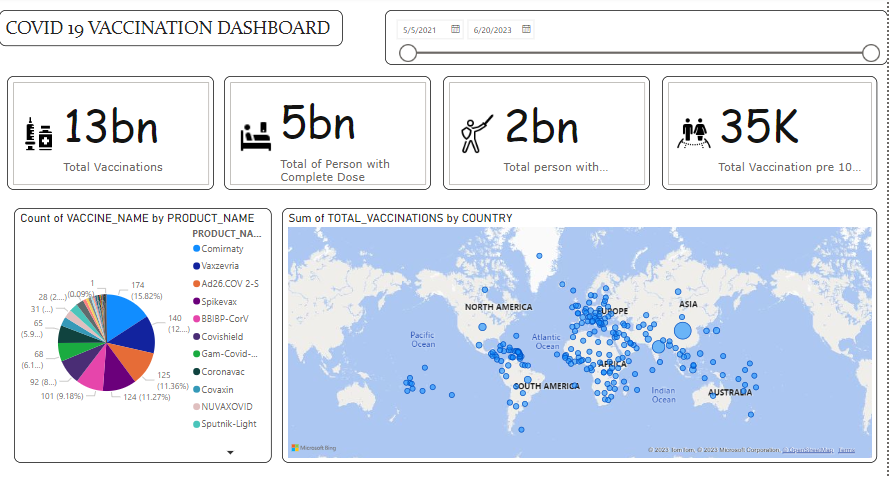

The dashboard page shown, as its layout file describes it:
{"tool":"powerbi","page":{"name":"vaccination","canvas":[1280,720],"ordinal":0},"visuals":[{"type":"textbox","box":[0,18.5,494.9,52],"z":0},{"type":"slicer","fields":{"Values":["vaccination-data.DATE_UPDATED"]},"box":[555.8,18.7,724.3,79.2],"z":1000},{"type":"cardVisual","fields":{"Data":["Sum(vaccination-data.TOTAL_VACCINATIONS)"]},"box":[11.5,113.8,298.1,164.2],"z":2000},{"type":"pieChart","fields":{"Category":["vaccination-metadata.PRODUCT_NAME"],"Y":["CountNonNull(vaccination-metadata.VACCINE_NAME)"]},"box":[21.8,303.6,370.7,367.4],"z":3000},{"type":"cardVisual","fields":{"Data":["Sum(vaccination-data.PERSONS_LAST_DOSE)"]},"box":[324,113.8,298.1,164.2],"z":4000},{"type":"cardVisual","fields":{"Data":["Sum(vaccination-data.PERSONS_BOOSTER_ADD_DOSE)"]},"box":[639.4,113.8,298.1,164.2],"z":5000},{"type":"map","fields":{"Category":["vaccination-data.COUNTRY"],"Size":["Sum(vaccination-data.TOTAL_VACCINATIONS)"]},"box":[407.7,303.6,857.2,367.4],"z":6000},{"type":"cardVisual","fields":{"Data":["Sum(vaccination-data.TOTAL_VACCINATIONS_PER100)"]},"box":[954.7,113.8,309.6,164.2],"z":7000}]}

Visuals, with their boxes on the page's 1280x720 design canvas (x1, y1, x2, y2). These are canvas units, not pixel positions in the 890x478 screenshot, which may show the page scaled, cropped or inside an application window:
textbox: Rect(0, 18, 495, 70)
slicer - vaccination-data.DATE_UPDATED: Rect(556, 19, 1280, 98)
cardVisual - Sum(vaccination-data.TOTAL_VACCINATIONS): Rect(12, 114, 310, 278)
pieChart - vaccination-metadata.PRODUCT_NAME x CountNonNull(vaccination-metadata.VACCINE_NAME): Rect(22, 304, 392, 671)
cardVisual - Sum(vaccination-data.PERSONS_LAST_DOSE): Rect(324, 114, 622, 278)
cardVisual - Sum(vaccination-data.PERSONS_BOOSTER_ADD_DOSE): Rect(639, 114, 938, 278)
map - vaccination-data.COUNTRY x Sum(vaccination-data.TOTAL_VACCINATIONS): Rect(408, 304, 1265, 671)
cardVisual - Sum(vaccination-data.TOTAL_VACCINATIONS_PER100): Rect(955, 114, 1264, 278)
